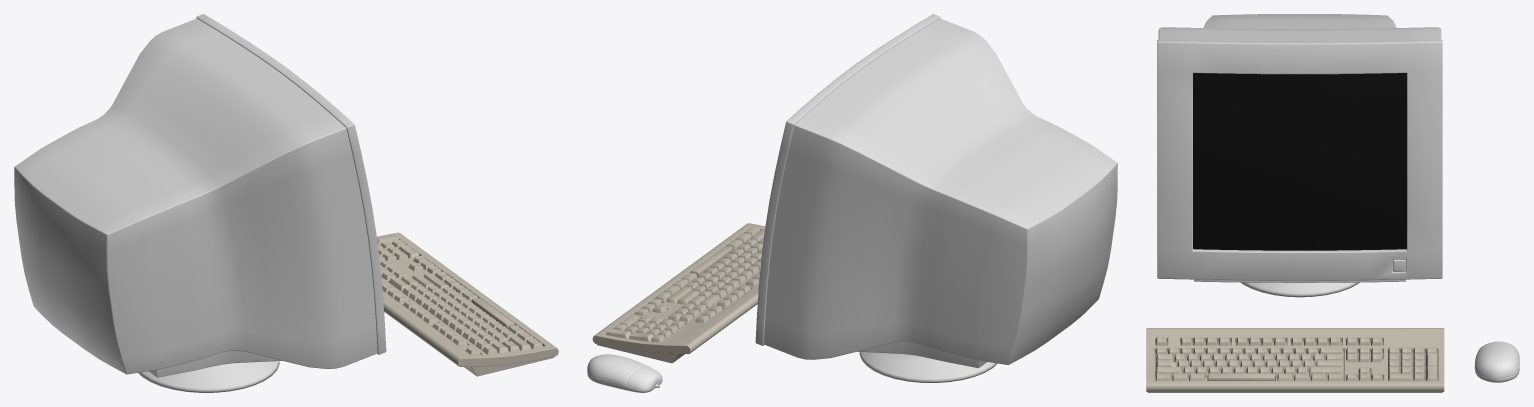
The model's file is crt-monitor.glb.
3 views of the same model, side by side, from view 1: azimuth 30°, elevation 25°; view 2: azimuth 150°, elevation 25°; view 3: azimuth 270°, elevation 25° (orthographic). The views are drawn at different scales.
Parts seen in each view (by area): view 1: Keyboard; view 2: Keyboard; view 3: Keyboard.
Part boxes in pixels (box(x1,y1,x2,y2)): Keyboard: box(14, 14, 558, 392); Keyboard: box(587, 14, 1117, 392); Keyboard: box(1146, 14, 1519, 392).
Bounding box in the file's own units: 3.77 × 2.36 × 3.04.
